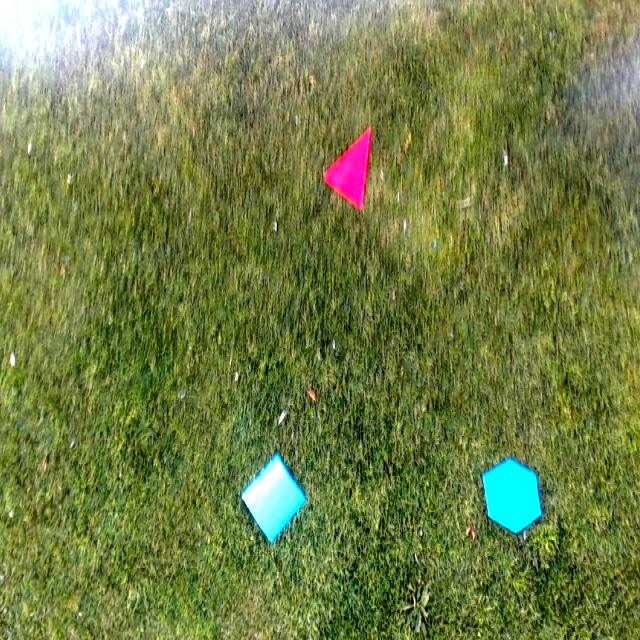blue_hexagon: (482, 457, 542, 535)
blue_square: (238, 452, 306, 544)
red_triangle: (321, 127, 374, 211)
